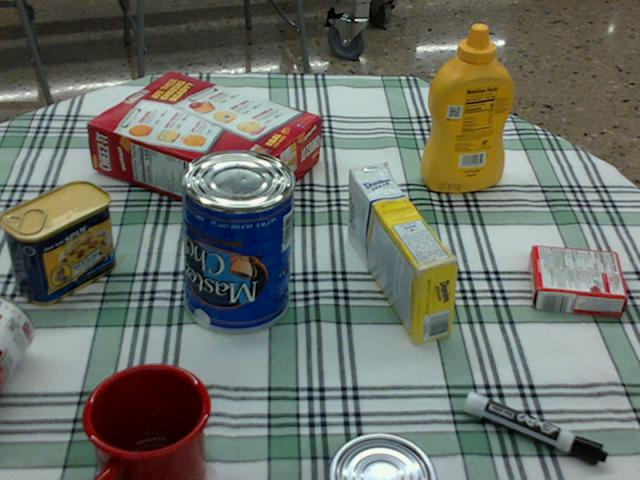cracker_box: (87, 72, 318, 220)
gelatin_box: (528, 246, 626, 317)
large_marker: (464, 391, 606, 464)
master_chef_can: (178, 149, 293, 333)
mug: (76, 361, 205, 479)
mustard_bottle: (419, 24, 513, 191)
potted_meat_can: (0, 180, 114, 304)
sugar_box: (347, 165, 457, 343)
tomato_soup_can: (0, 296, 32, 388)
tuna_fish_can: (325, 435, 435, 479)
